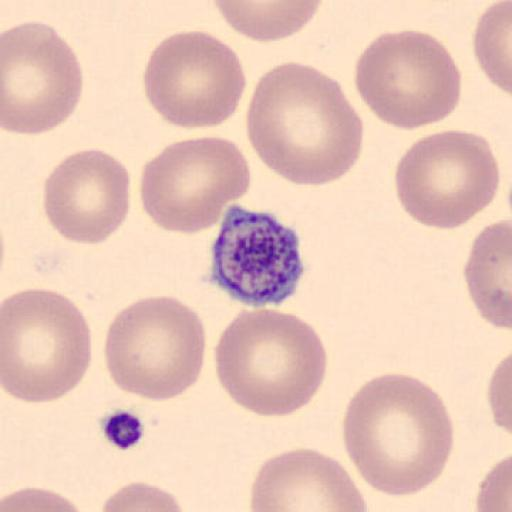Platelet: (206, 204, 310, 308), (96, 406, 150, 452)
RBC: (244, 59, 365, 189), (340, 371, 456, 499), (213, 307, 329, 418), (138, 134, 252, 236), (352, 28, 464, 131), (102, 294, 207, 403), (394, 128, 501, 230), (2, 286, 93, 405), (142, 28, 246, 130), (0, 20, 84, 137), (42, 148, 132, 246), (248, 445, 370, 512), (462, 217, 512, 333), (211, 0, 325, 44), (472, 0, 512, 100), (99, 479, 187, 512), (486, 348, 512, 440), (0, 485, 87, 512), (475, 451, 512, 512)
